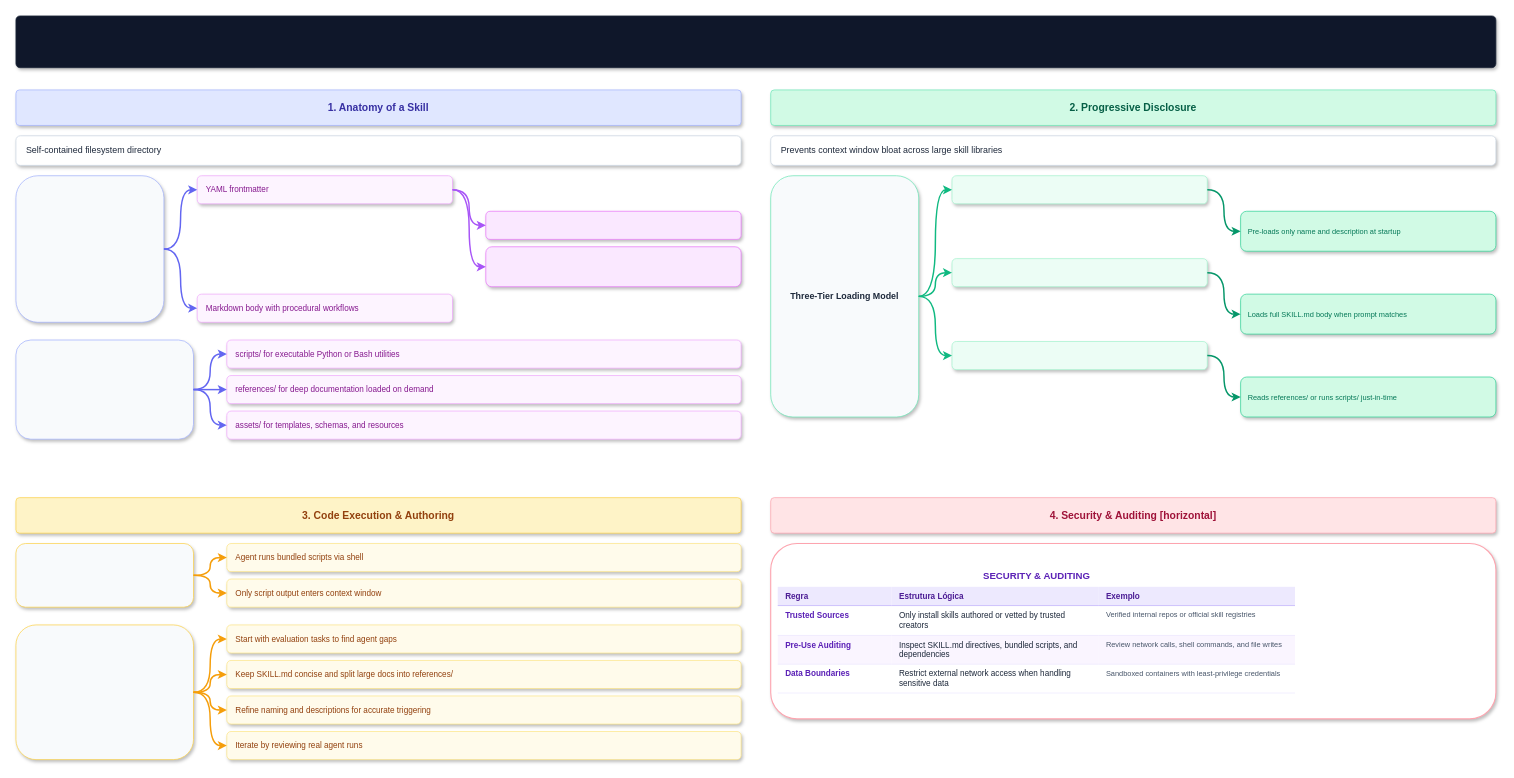
This 1514x778 diagram has some shape labels left out. The shapes that lost their labels are listed below. From the top down, each one's centre as x and y in pixels, then its label:
At [756,42]: "EQUIPPING AGENTS WITH AGENT SKILLS Mapa Mental Conceitual • Síntese Estruturada".
At [1080,190]: "Tier 1: Discovery".
At [614,226]: "name (lowercase, max 64 chars)".
At [90,249]: "SKILL.md (Required)".
At [614,267]: "description (routing trigger, max 1024 chars)".
At [1080,273]: "Tier 2: Activation".
At [1080,356]: "Tier 3: Execution".
At [105,390]: "Optional Subdirectories".
At [105,576]: "Bridging language reasoning and deterministic code".
At [105,693]: "Best Practices".
